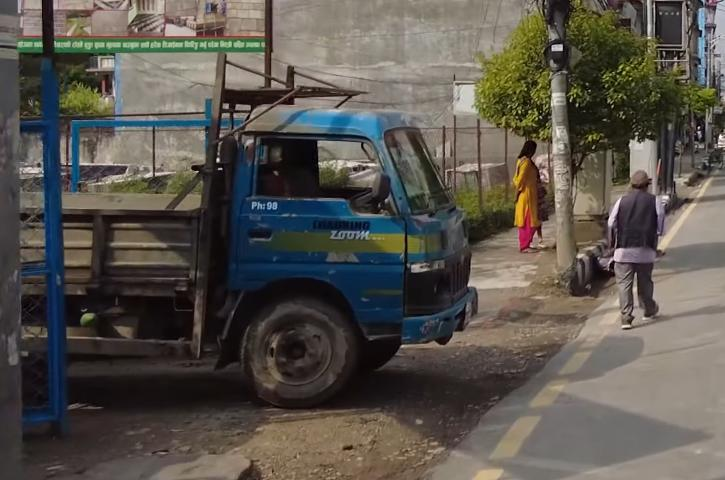mini_truck: (14, 63, 496, 408)
